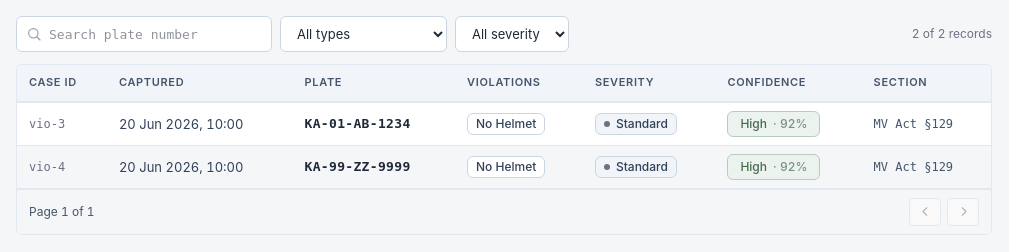
it: ViolationsList › filters by plate substring
Type "AB" into the field named "Search by plate number" at (144, 34), box left=16, top=16, right=272, bottom=52
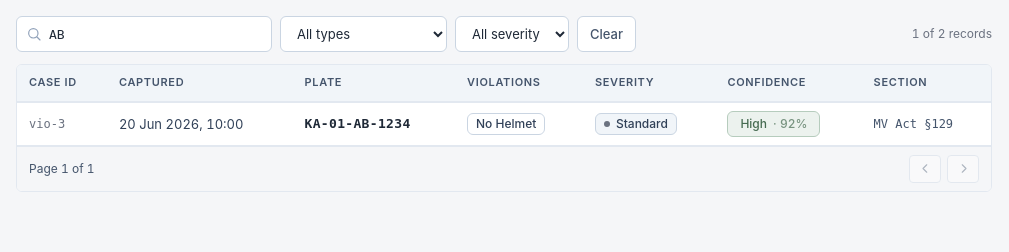
Expected: the text "KA-01-AB-1234" is shown, left=305, top=116, right=411, bottom=131
Now the text "KA-99-ZZ-9999" is gone
Now the text "1 of 2 records" is shown, box left=912, top=26, right=992, bottom=42
